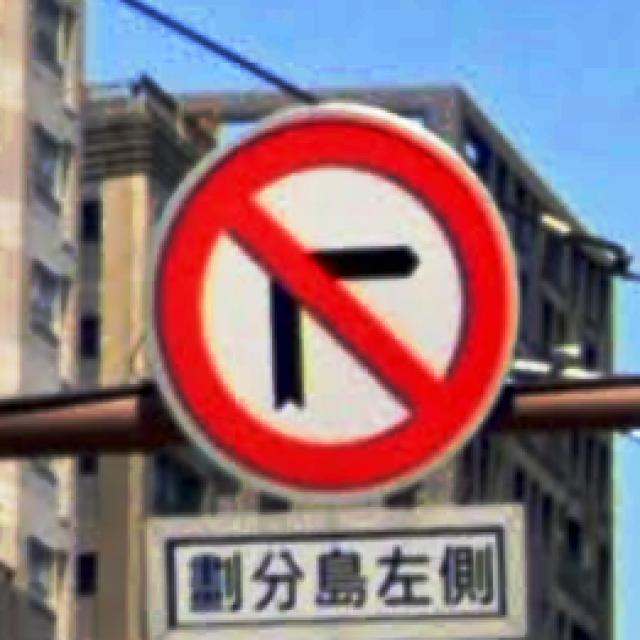noturnright: (142, 98, 522, 502)
